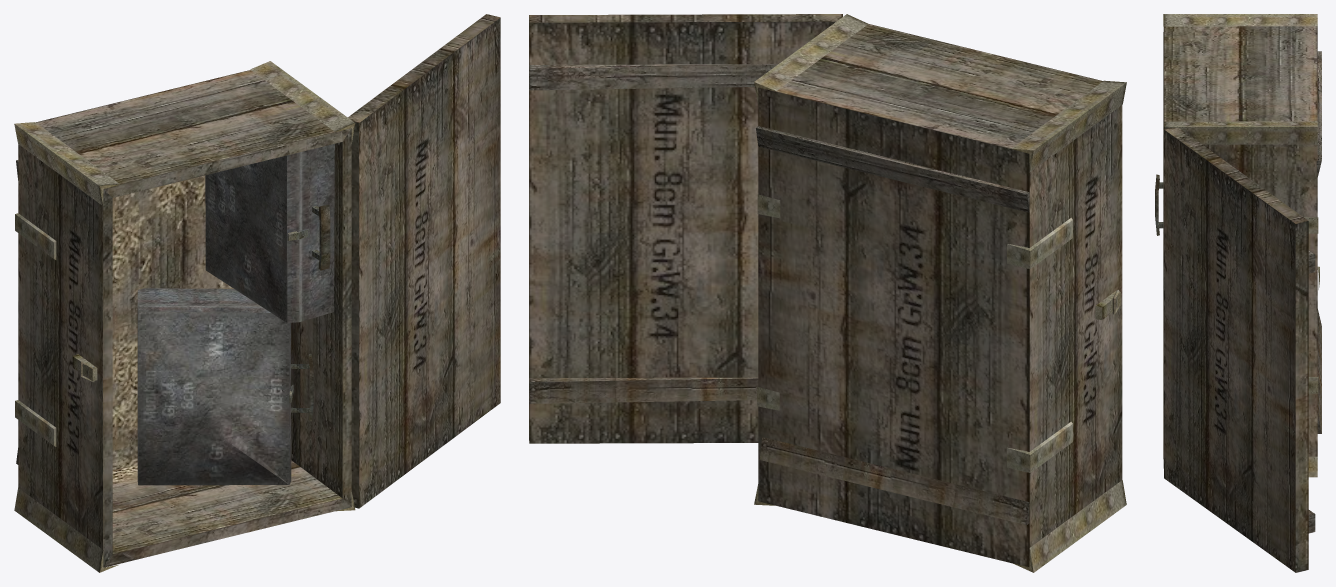
Rendered from prop_mortar_crate2.glb.
3 renders of one model, left to right at view 1: azimuth 30°, elevation 25°; view 2: azimuth 150°, elevation 25°; view 3: azimuth 270°, elevation 25°, orthographic. The views are drawn at different scales.
Size of the model in its own units: 40.47 by 31.3 by 13.49.
2 materials, 2 textured.
